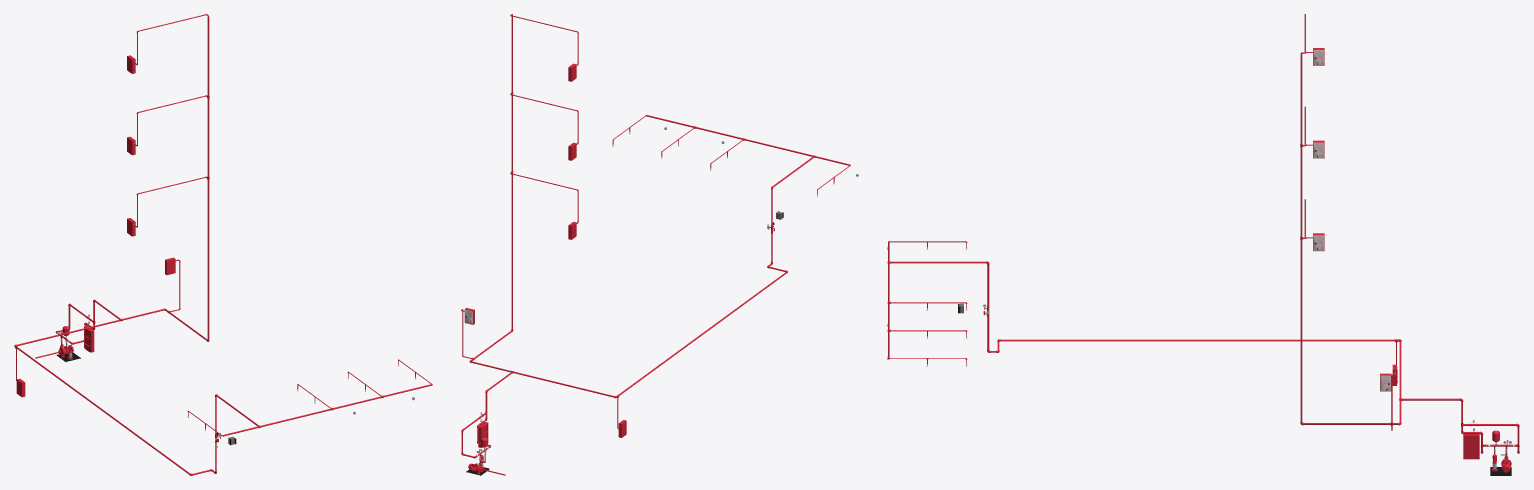
File: RCI.glb
3 views of the same model, side by side, from view 1: azimuth 30°, elevation 25°; view 2: azimuth 150°, elevation 25°; view 3: azimuth 270°, elevation 25° (orthographic). The views are drawn at different scales.
Visible parts, largest first — view 1: IfcFlowSegment/Pipe Types:RED FIRE Pipe SDR11 S5 P-140XXX-R. (×2); view 2: IfcFlowSegment/Pipe Types:RED FIRE Pipe SDR11 S5 P-140XXX-R.; view 3: IfcFlowSegment/Pipe Types:RED FIRE Pipe SDR11 S5 P-140XXX-R..
Part boxes in pixels (<box>): IfcFlowSegment/Pipe Types:RED FIRE Pipe SDR11 S5 P-140XXX-R. (×2): <box>16,180,209,474</box>; IfcFlowSegment/Pipe Types:RED FIRE Pipe SDR11 S5 P-140XXX-R.: <box>619,272,787,395</box>; IfcFlowSegment/Pipe Types:RED FIRE Pipe SDR11 S5 P-140XXX-R.: <box>1000,339,1394,341</box>.
Bounding box in the file's own units: 9.85 × 16.94 × 21.66.
